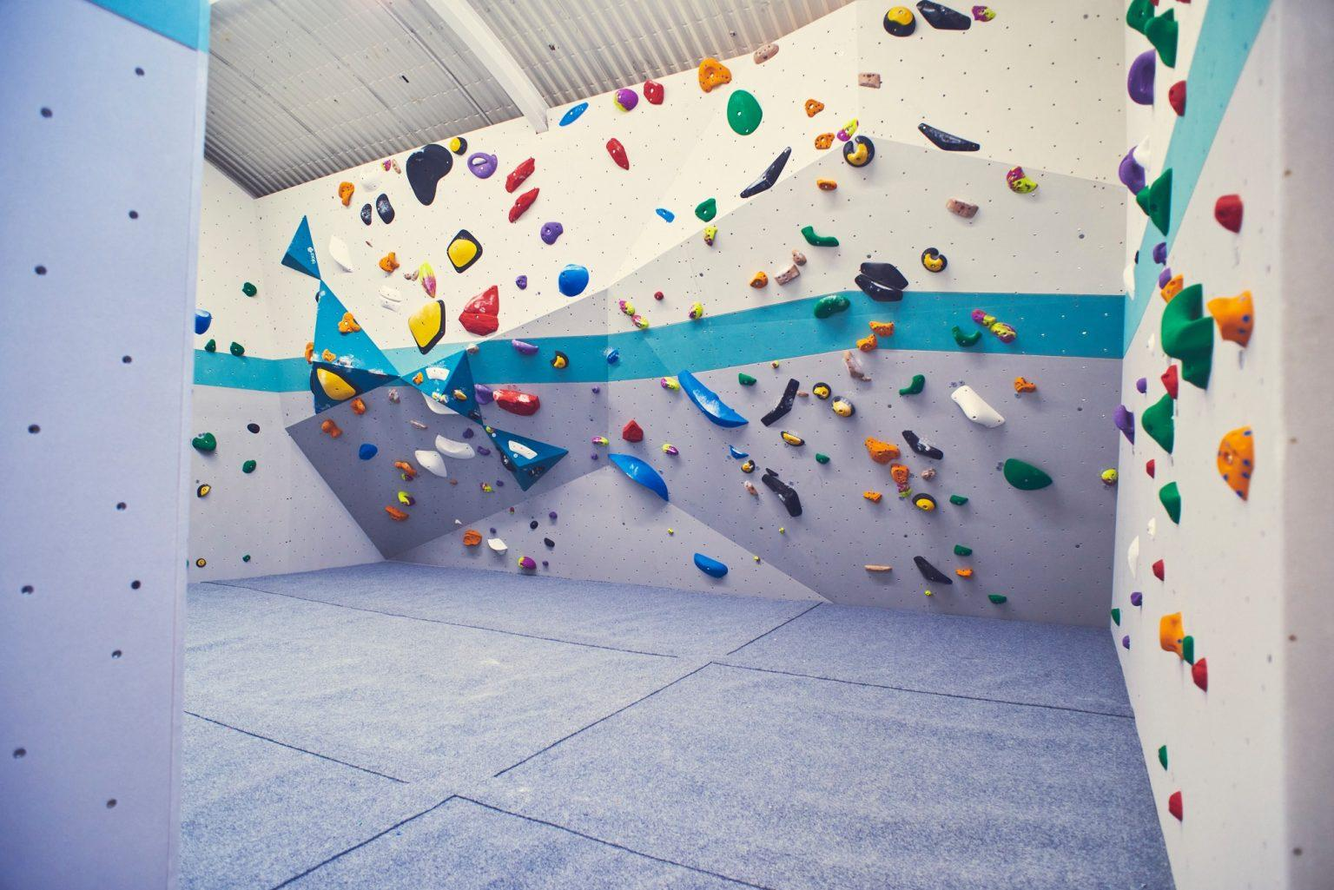hold: (1160, 283, 1214, 391), (677, 370, 748, 427), (1215, 424, 1255, 502), (406, 144, 454, 206), (608, 453, 668, 502), (1206, 290, 1255, 349), (740, 146, 792, 198), (950, 385, 1007, 430), (1144, 6, 1179, 69), (458, 285, 500, 336), (408, 300, 446, 355), (1141, 392, 1174, 455), (760, 378, 800, 427), (918, 122, 981, 152), (761, 474, 802, 517), (1148, 167, 1173, 237), (916, 0, 972, 31), (446, 229, 484, 274), (727, 89, 763, 136), (1127, 48, 1156, 106), (1003, 458, 1053, 491), (1118, 145, 1146, 197), (901, 429, 944, 461), (860, 262, 909, 290), (855, 274, 904, 302), (316, 367, 356, 401), (1159, 611, 1186, 661), (493, 388, 540, 416), (1214, 193, 1244, 236), (698, 57, 732, 93), (913, 556, 954, 585), (505, 157, 535, 194), (508, 188, 539, 223), (864, 436, 901, 465), (1126, 0, 1155, 37), (843, 135, 875, 168), (558, 263, 589, 297), (328, 234, 355, 273), (883, 5, 916, 36), (1005, 165, 1039, 195), (1159, 481, 1182, 525), (1112, 404, 1135, 446), (435, 435, 475, 459), (414, 450, 448, 477), (813, 294, 849, 319), (693, 552, 727, 578), (800, 226, 840, 247), (467, 152, 498, 179), (421, 392, 459, 414), (606, 137, 630, 171), (1159, 272, 1184, 304), (559, 102, 589, 127), (358, 164, 383, 193), (1168, 79, 1187, 117), (418, 261, 437, 299), (1160, 363, 1179, 400), (921, 247, 948, 273), (946, 197, 979, 218), (951, 326, 982, 347), (612, 88, 639, 112), (1191, 657, 1208, 694), (774, 263, 801, 286), (842, 351, 865, 378), (508, 440, 539, 460), (1133, 135, 1151, 169), (376, 193, 395, 225), (835, 117, 859, 142), (753, 42, 779, 65), (694, 198, 717, 223), (899, 374, 925, 396), (540, 222, 564, 245), (831, 395, 855, 418), (643, 80, 665, 105), (990, 322, 1016, 343), (1127, 535, 1139, 580), (622, 419, 644, 443), (338, 311, 362, 333), (911, 494, 937, 514), (191, 432, 217, 452), (194, 307, 212, 335), (1168, 790, 1183, 823), (378, 252, 400, 274), (384, 505, 410, 523), (971, 309, 997, 327), (1136, 185, 1150, 218), (855, 333, 878, 353), (1123, 263, 1135, 301), (378, 285, 403, 303), (376, 294, 401, 312), (511, 338, 539, 354), (971, 5, 997, 22), (474, 383, 494, 405), (868, 320, 895, 336), (857, 71, 881, 89), (780, 430, 805, 447), (320, 419, 342, 438), (805, 98, 825, 118), (338, 181, 354, 206), (1014, 376, 1037, 393), (1152, 241, 1167, 267), (890, 464, 909, 484), (814, 132, 835, 150), (462, 529, 483, 547), (500, 451, 517, 473), (394, 461, 417, 477), (550, 350, 569, 369), (812, 382, 832, 400), (487, 538, 508, 555), (1151, 558, 1165, 583), (449, 137, 468, 155), (750, 271, 769, 289), (1183, 635, 1194, 666), (358, 443, 378, 460), (425, 367, 451, 380), (729, 444, 750, 459), (1158, 267, 1172, 289), (704, 225, 718, 247), (1101, 468, 1119, 485), (687, 302, 703, 321), (655, 208, 675, 223), (660, 377, 680, 392), (350, 398, 366, 416), (743, 479, 759, 497), (518, 555, 537, 570), (397, 491, 417, 505), (360, 203, 372, 226), (862, 491, 883, 504), (618, 300, 635, 316), (241, 281, 258, 297), (738, 372, 757, 386), (740, 458, 756, 474), (792, 250, 808, 266), (229, 341, 245, 357), (896, 484, 913, 499), (816, 179, 837, 191), (631, 315, 649, 329), (950, 494, 969, 507), (1158, 745, 1167, 772), (304, 341, 314, 365), (953, 544, 973, 556), (920, 466, 938, 479), (197, 483, 212, 498), (1147, 517, 1156, 542), (1146, 333, 1155, 357), (661, 444, 679, 456), (987, 594, 1008, 604), (242, 460, 257, 474), (606, 349, 619, 365), (321, 349, 337, 362), (402, 269, 419, 281), (864, 565, 893, 572), (591, 435, 609, 446), (203, 338, 216, 353), (515, 274, 527, 290), (528, 466, 544, 478), (1110, 608, 1120, 627), (409, 419, 428, 429), (453, 389, 468, 401), (389, 388, 400, 404), (412, 372, 424, 386), (1146, 458, 1154, 479), (380, 158, 392, 172), (468, 409, 482, 421), (391, 159, 402, 174), (246, 423, 261, 434), (954, 569, 974, 577), (816, 453, 830, 464), (466, 343, 480, 354), (1136, 378, 1146, 393), (1131, 591, 1141, 606), (368, 369, 389, 376), (479, 483, 493, 493), (476, 446, 491, 455), (462, 428, 474, 439), (543, 537, 555, 548), (766, 467, 779, 477), (1122, 635, 1130, 650), (400, 473, 414, 481), (196, 558, 207, 568), (529, 520, 539, 530), (653, 292, 663, 301), (1175, 0, 1192, 5), (770, 360, 779, 369), (591, 385, 600, 394), (1134, 249, 1139, 264), (485, 426, 494, 434), (440, 395, 448, 404), (861, 377, 872, 383), (315, 291, 320, 304), (431, 392, 439, 400), (242, 555, 250, 563), (1151, 0, 1160, 7), (548, 512, 557, 519), (495, 480, 504, 487), (449, 479, 458, 486), (797, 391, 809, 396), (778, 526, 785, 534), (925, 590, 932, 597), (667, 528, 674, 535), (454, 519, 462, 525), (489, 527, 497, 533), (754, 555, 760, 562), (591, 453, 598, 459), (542, 560, 549, 566), (510, 507, 515, 515)
volume: (313, 280, 402, 415), (399, 351, 483, 427), (482, 425, 569, 492), (281, 215, 322, 280)
